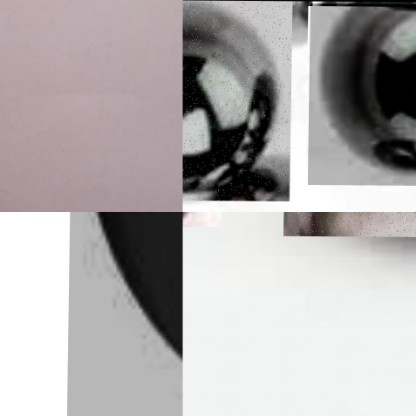ironball: (182, 0, 292, 200), (308, 3, 415, 185)
